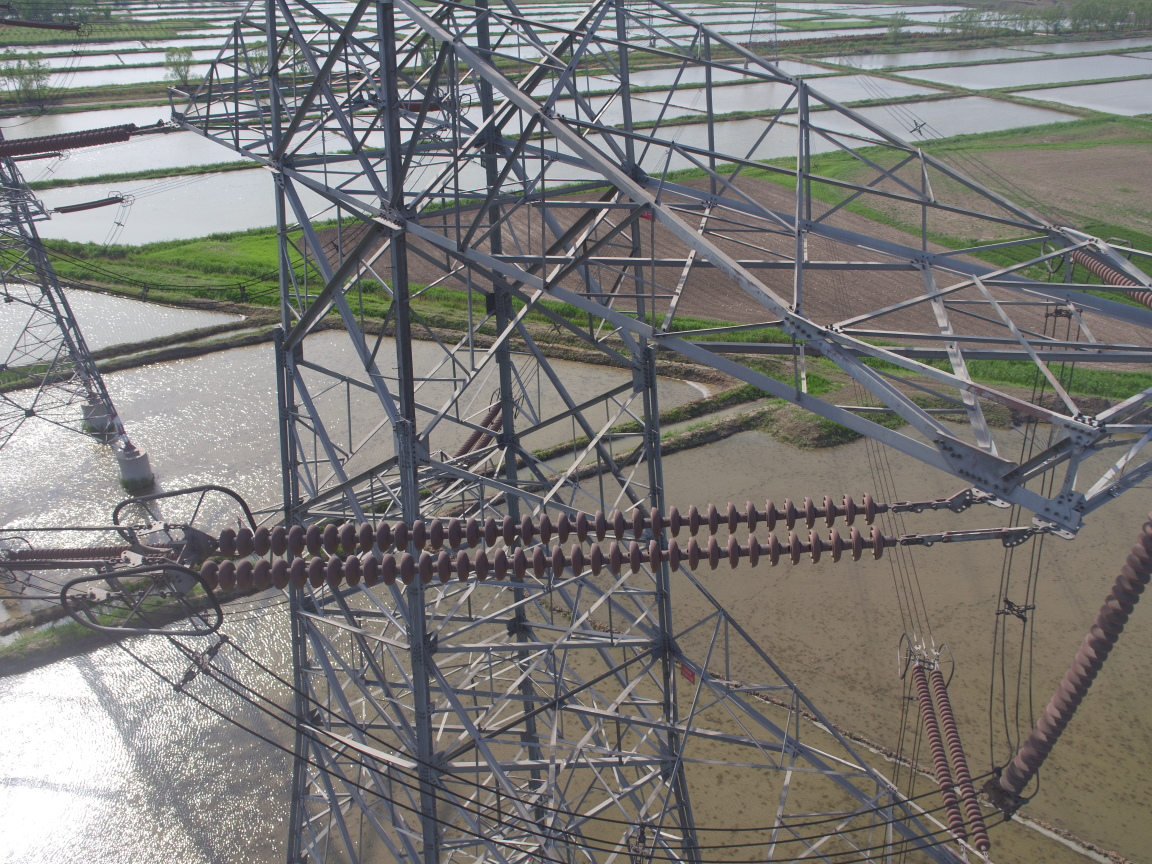insulator: (187, 488, 927, 600), (899, 660, 996, 863)
